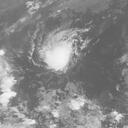cyclone: (35, 25, 87, 74)
